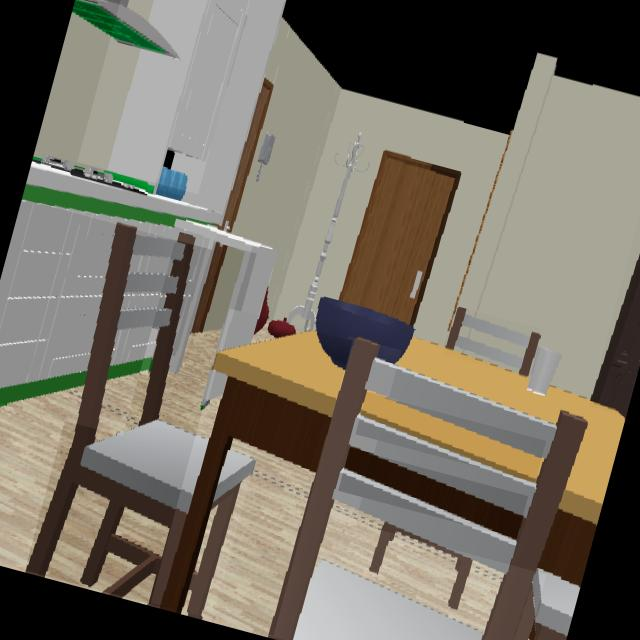bookshelf: (591, 253, 640, 416)
cabinet: (0, 202, 177, 390), (109, 0, 249, 182), (110, 329, 156, 366)
chair: (268, 338, 586, 640), (26, 223, 206, 605), (188, 452, 253, 615), (445, 309, 538, 376)
countertop: (21, 162, 220, 228)
stove: (42, 156, 136, 191)
table: (398, 340, 624, 583), (162, 333, 343, 610), (344, 449, 520, 538), (361, 396, 539, 482)
